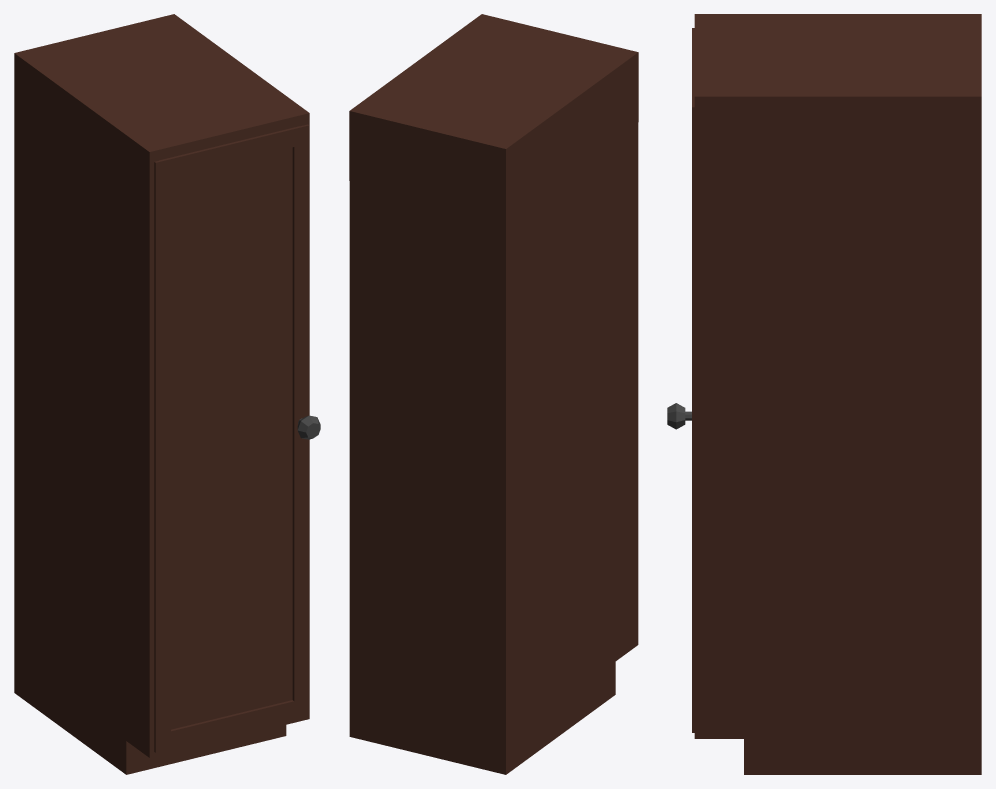
File: SingleDoorTallCabinet1.glb
The picture shows the model from 3 angles, left to right: view 1: azimuth 30°, elevation 25°; view 2: azimuth 150°, elevation 25°; view 3: azimuth 270°, elevation 25°; orthographic projection. The views are drawn at different scales.
Parts seen in each view (by area): view 1: SingleDoorTallCabinet1, Door1SingleDoorTallCabinet1; view 2: SingleDoorTallCabinet1; view 3: SingleDoorTallCabinet1, Door1SingleDoorTallCabinet1.
Boxes of the visible parts, x1,y1,x2,y2 form: SingleDoorTallCabinet1: (14,14,309,774); Door1SingleDoorTallCabinet1: (154,124,320,752); SingleDoorTallCabinet1: (349,14,638,774); SingleDoorTallCabinet1: (694,14,981,774); Door1SingleDoorTallCabinet1: (667,28,694,732).
Size of the model in its own units: 0.4754 by 1.79 by 0.7519.
